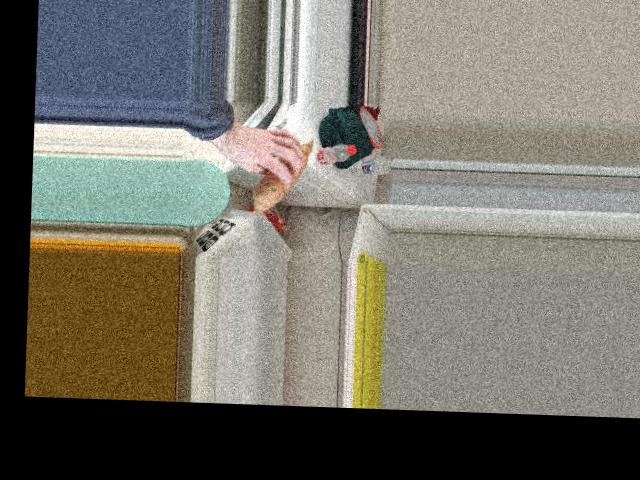sweet_potato: (255, 132, 311, 208)
